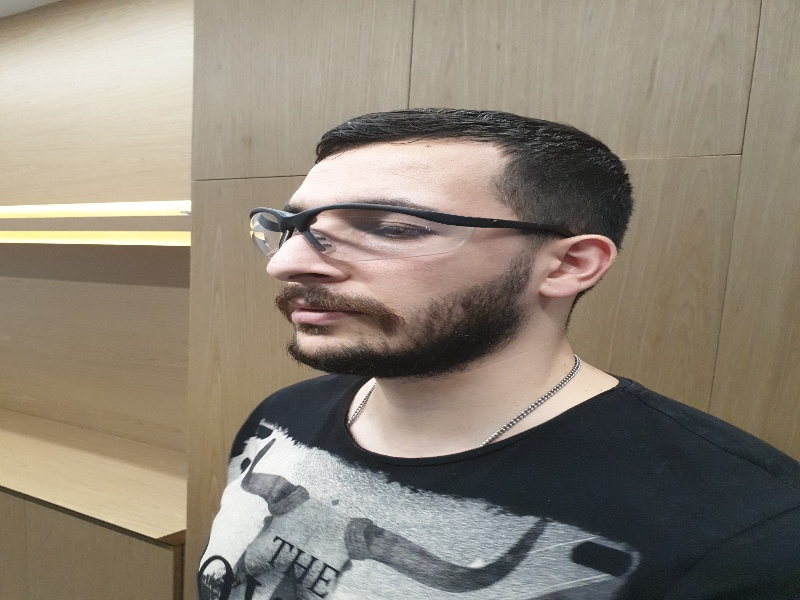Gozluk: (245, 205, 562, 258)
